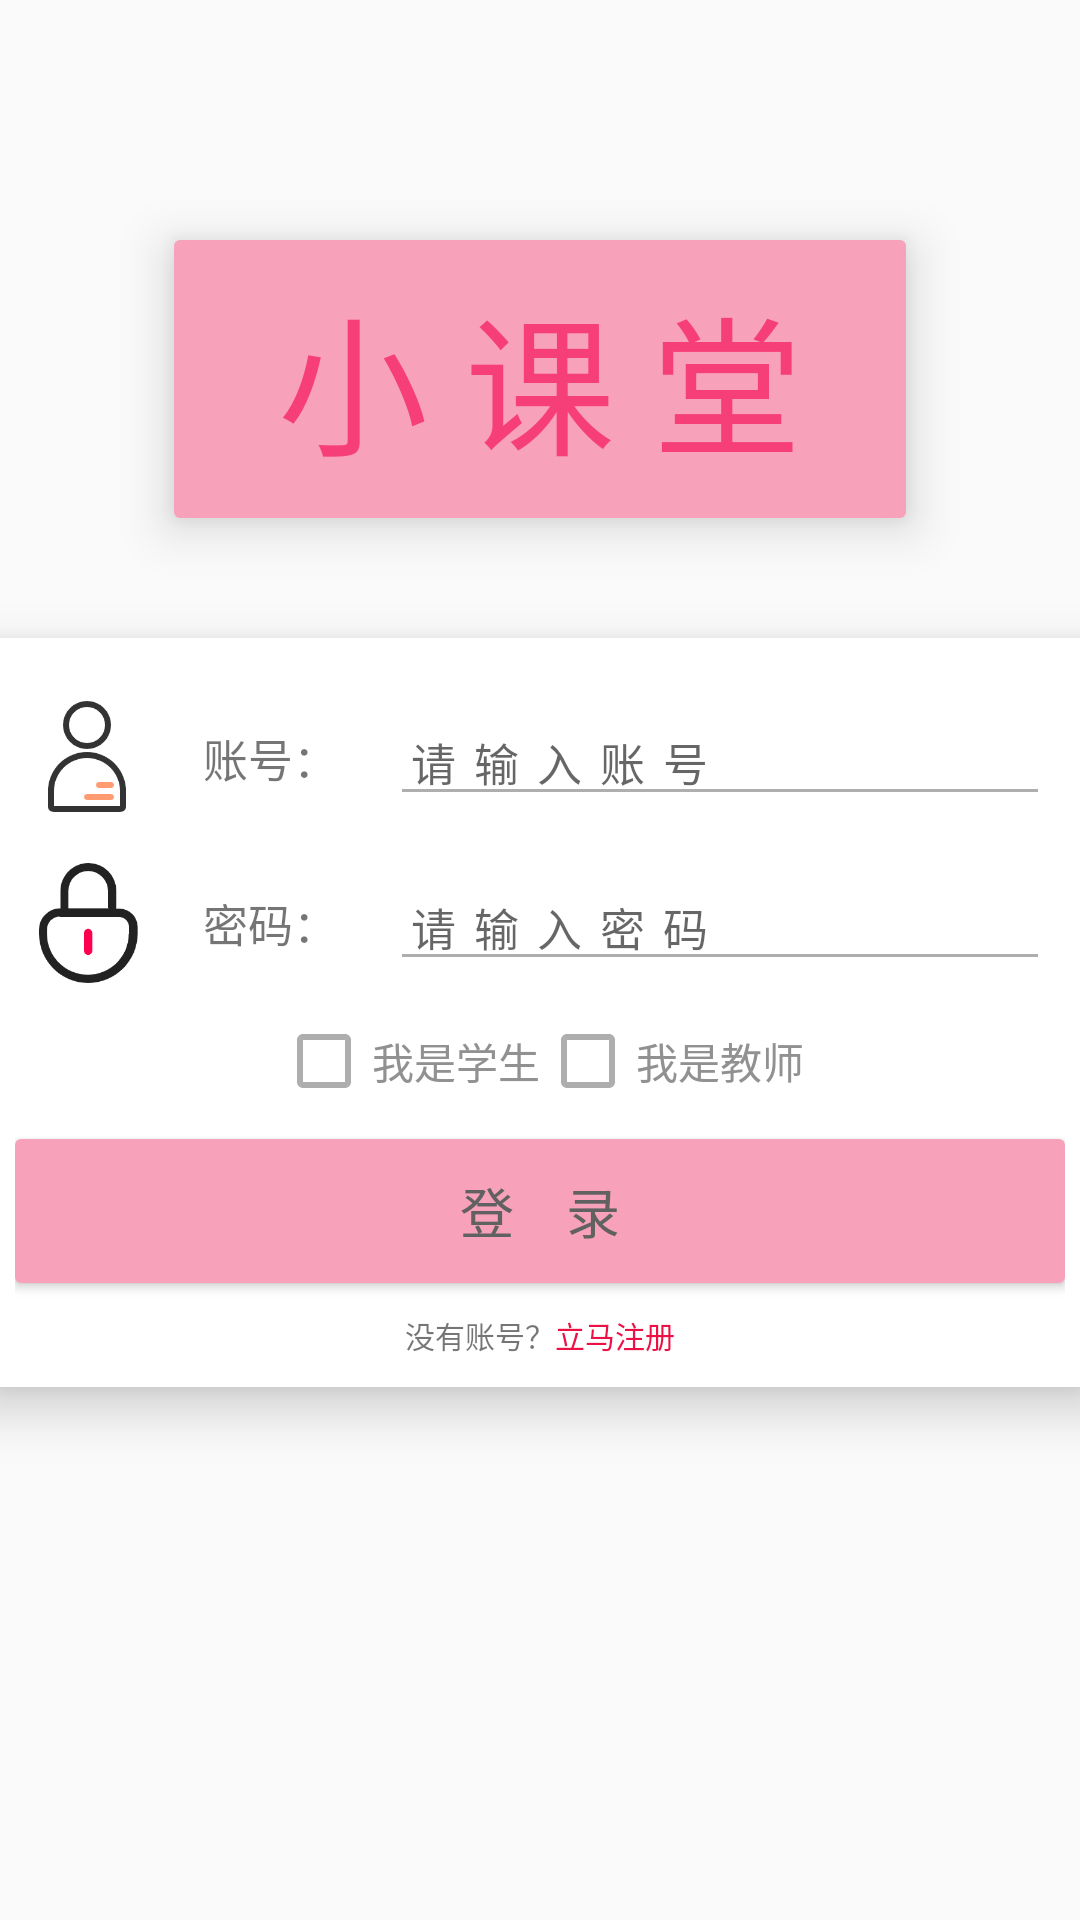

Screen size 1080px x 1920px. Icon name, then its center in pixels as [x,y]:
user: [87,756]
